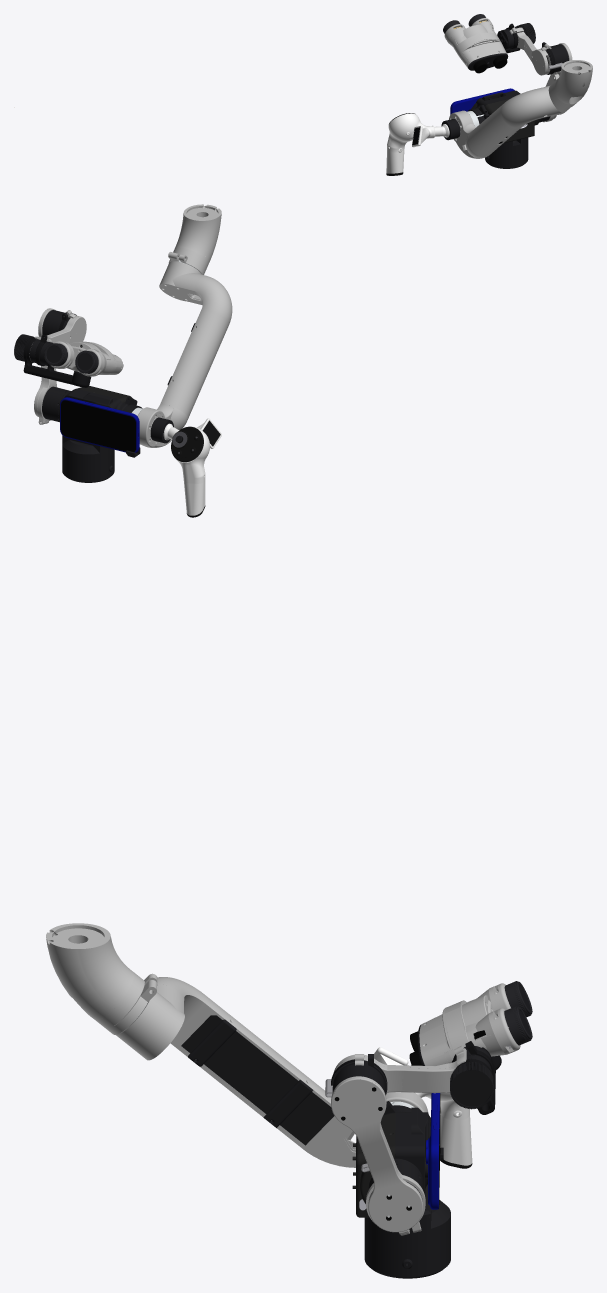
File: dpmini.glb
The picture shows the model from 3 angles, top to bottom: view 1: azimuth 30°, elevation 25°; view 2: azimuth 150°, elevation 25°; view 3: azimuth 270°, elevation 25°; orthographic projection. The views are drawn at different scales.
Size of the model in its own units: 1.17 by 0.3514 by 0.5187.
